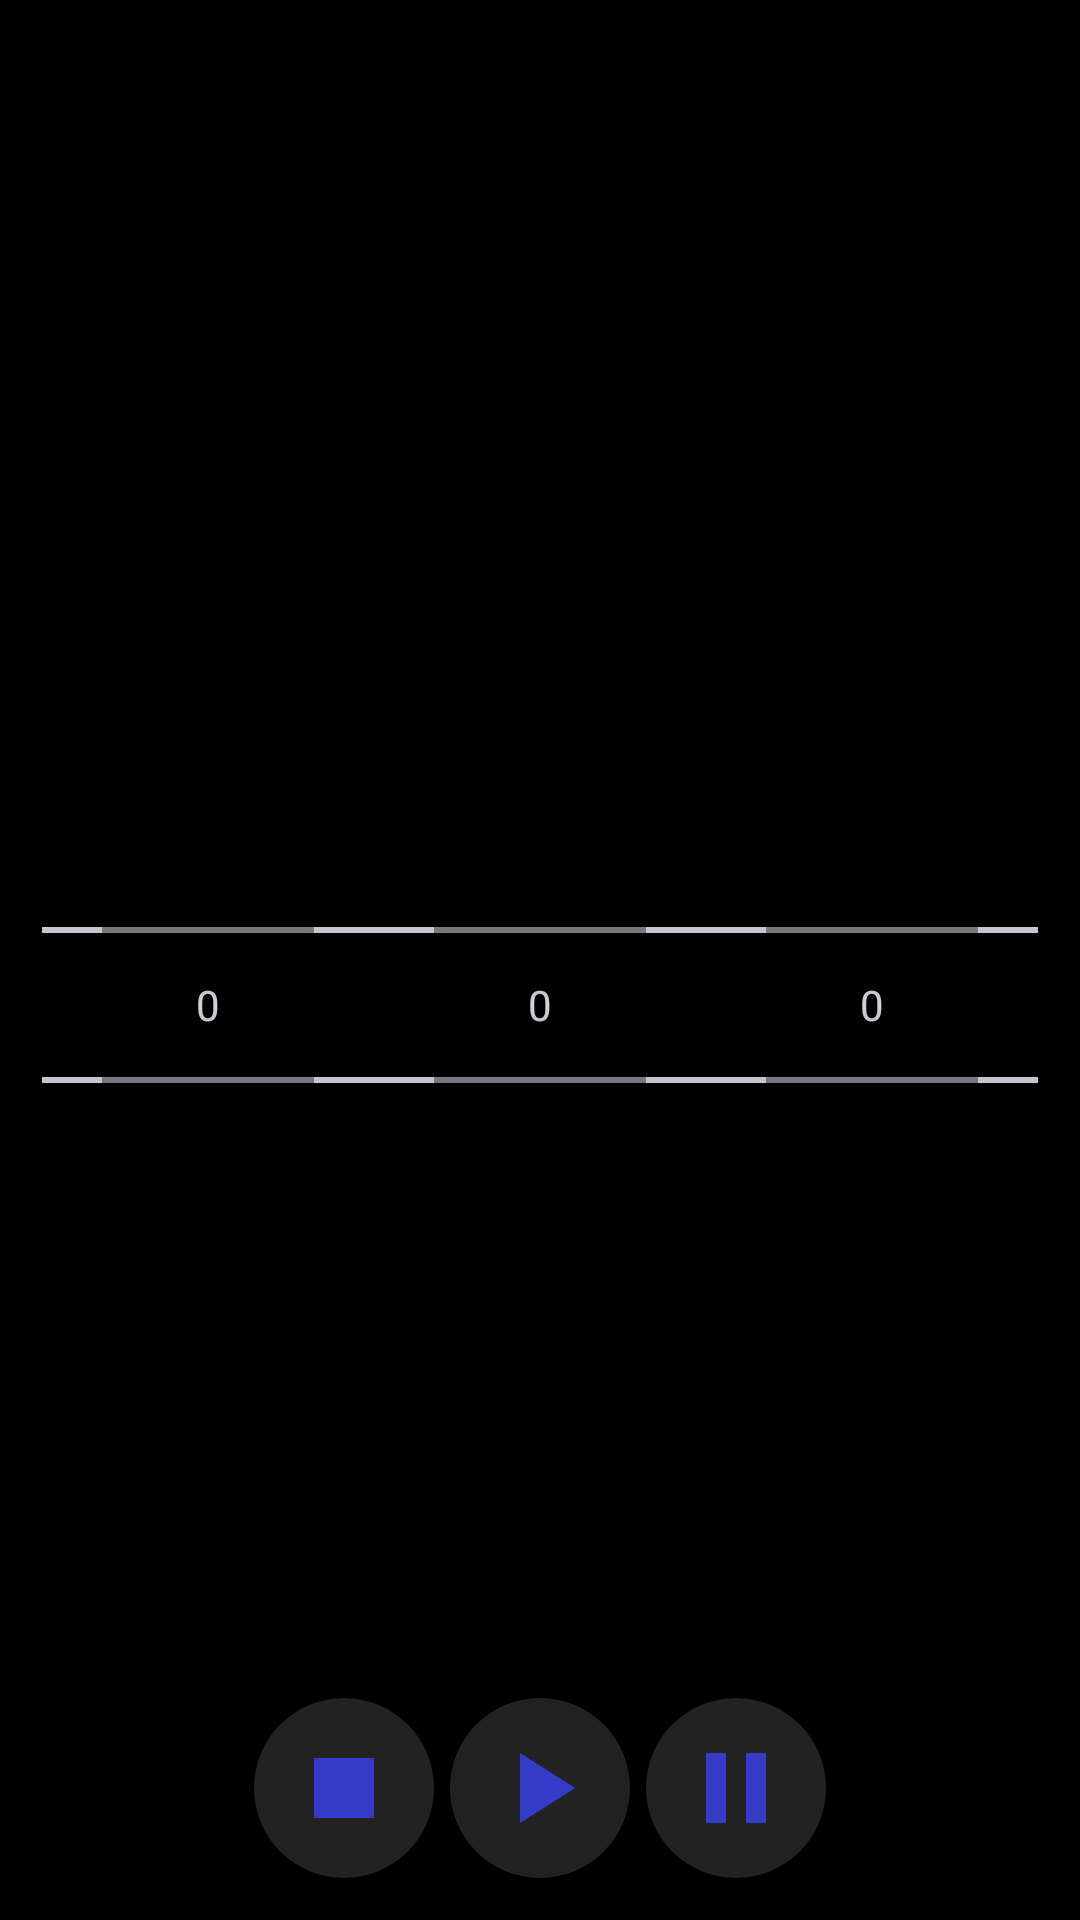

Point at icon controls on the screen. Image size 1080px×1920px, points as point (x, y).
pause: point (736, 1788)
start: point (540, 1788)
stop: point (344, 1788)
